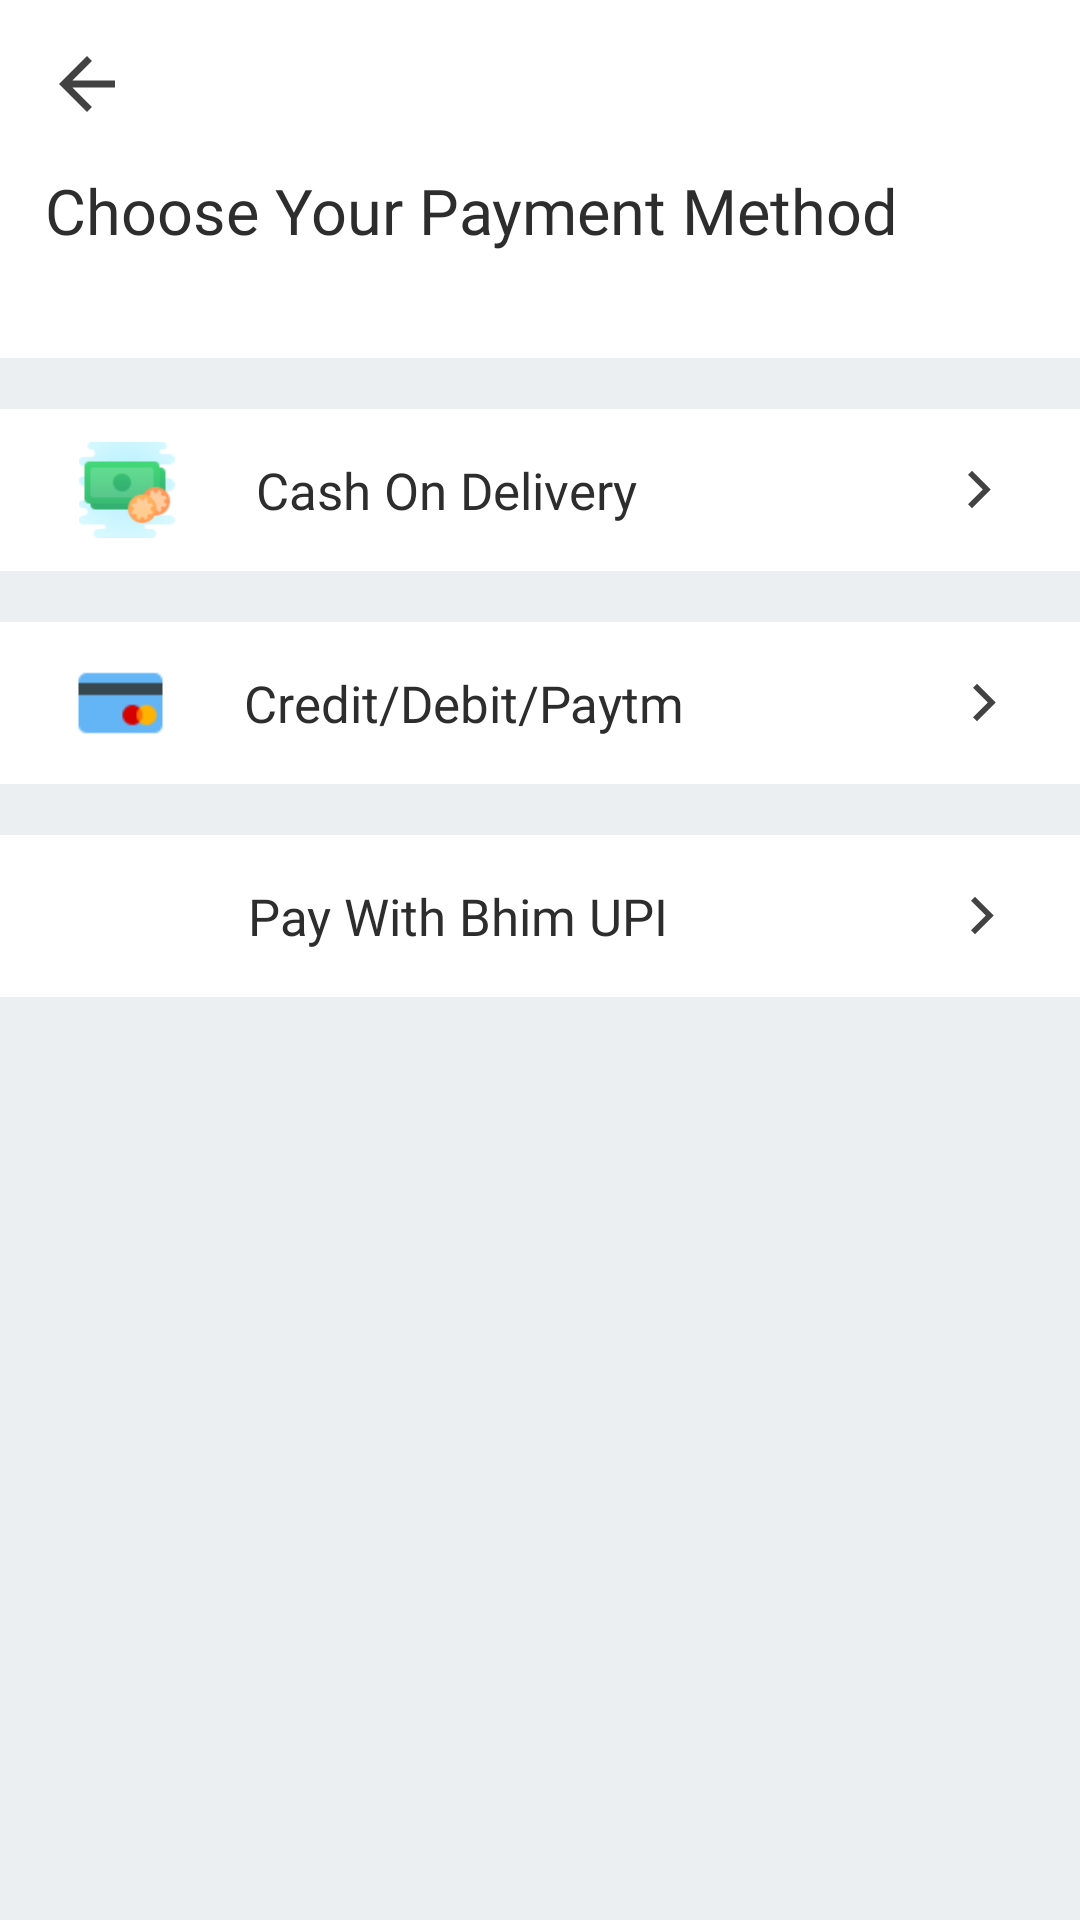

Icons on this 1080 × 1920 Android screen, each with its box as [x1,y1,x2,y2]:
back arrow: [59,56,115,112]
forward arrow: [968,471,991,508], [973,684,996,721], [971,897,994,934]
